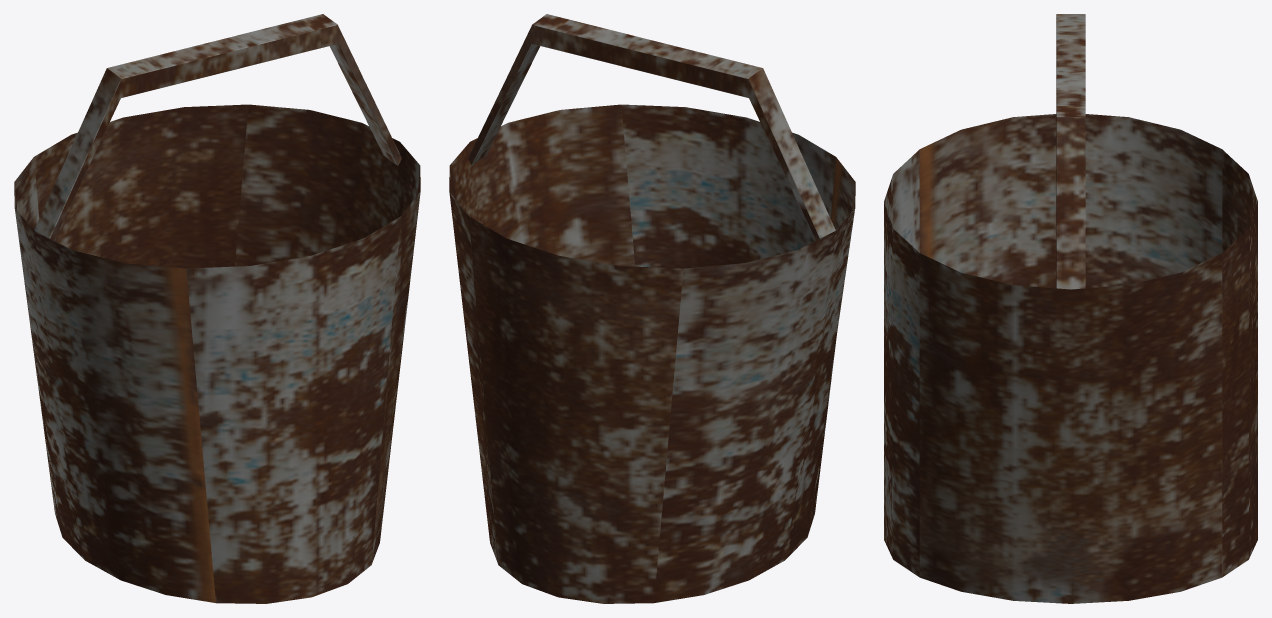
File: Bucket.fbx
3 views of the same model, side by side, from view 1: azimuth 30°, elevation 25°; view 2: azimuth 150°, elevation 25°; view 3: azimuth 270°, elevation 25° (orthographic).
Visible parts, largest first — view 1: Bucket; view 2: Bucket; view 3: Bucket.
Part boxes in pixels (x1,y1,x2,y2): Bucket: [14, 14, 420, 603]; Bucket: [449, 14, 855, 603]; Bucket: [884, 14, 1257, 603].
Size of the model in its own units: 1.12 by 1.41 by 1.
1 material, 1 textured.
